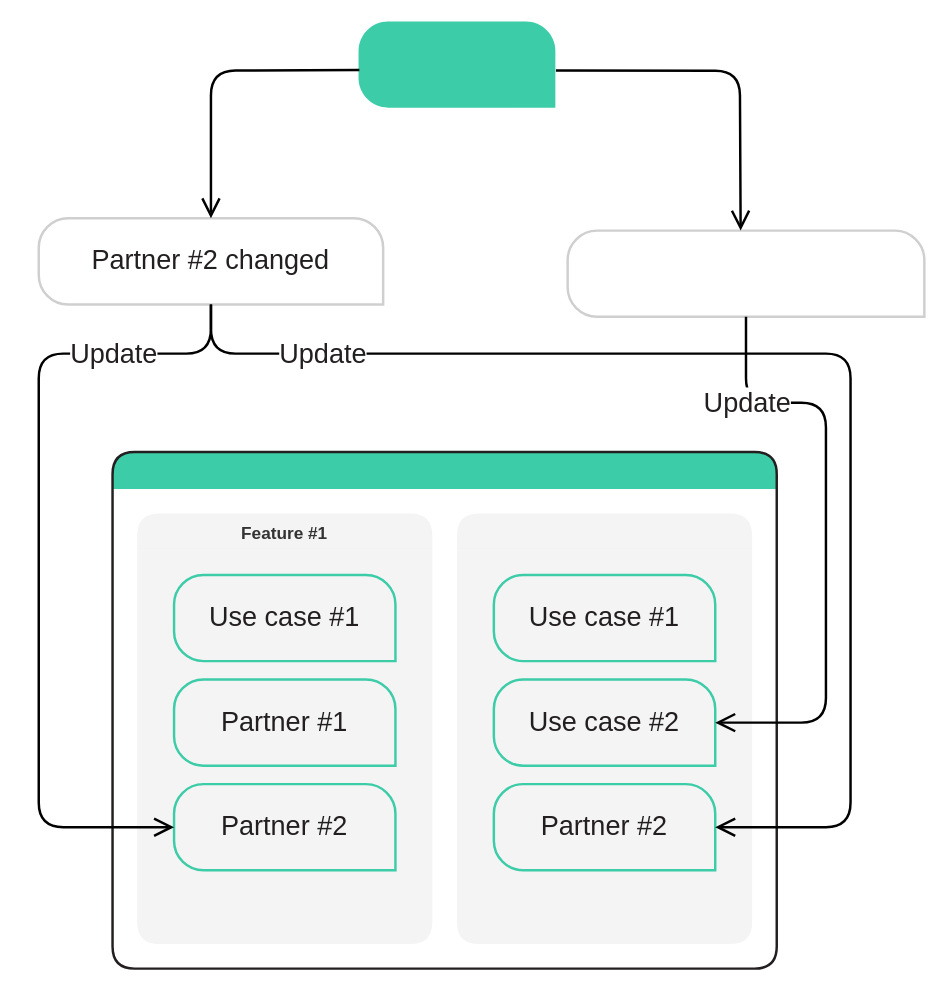
This 946x990 diagram has some shape labels left out. Each missing label, with the box of its shape:
Feature #2: (456, 513, 752, 943)
Kontent.ai: (358, 21, 555, 107)
Search index: (111, 450, 777, 969)
Use case #2 changed: (566, 229, 925, 317)
